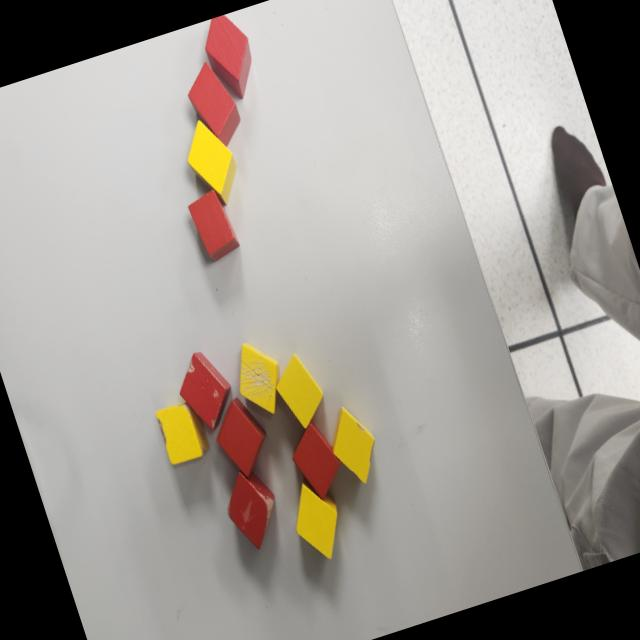broken: (216, 460, 290, 555), (169, 344, 242, 438), (320, 399, 388, 491), (226, 335, 293, 423), (154, 398, 212, 467)
red: (205, 391, 279, 486), (179, 57, 248, 155), (197, 10, 264, 106), (283, 416, 351, 507), (185, 187, 242, 265)
yellow: (176, 113, 248, 212), (282, 472, 352, 566), (268, 348, 333, 436)
